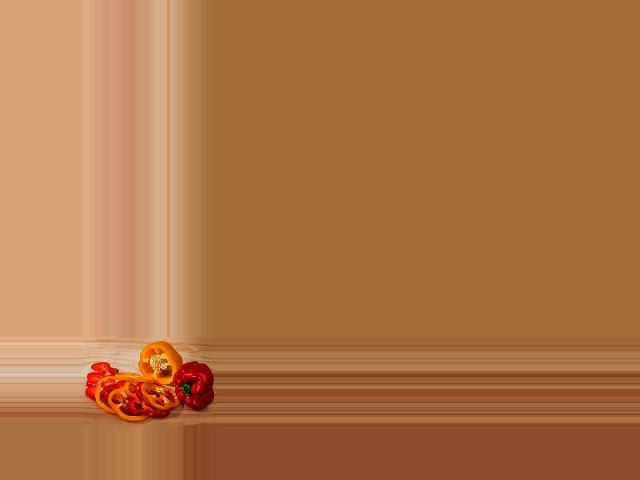bell_pepper: (136, 339, 180, 384)
